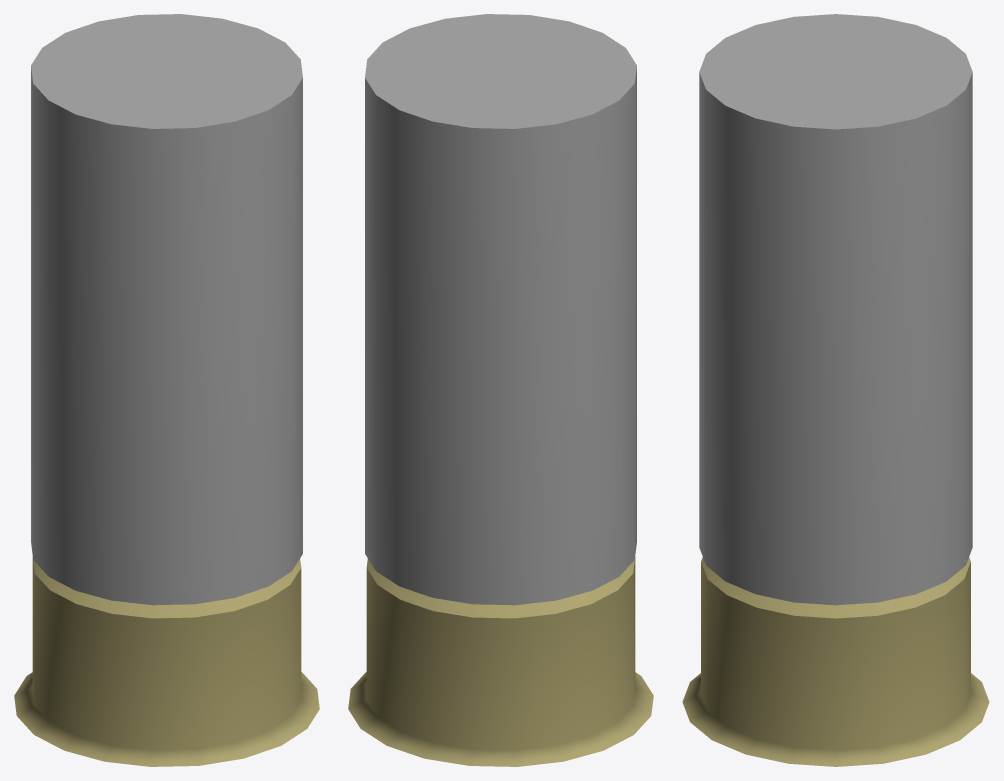
Rendered from chartouche a blanc.fbx.
3 renders of one model, left to right at view 1: azimuth 30°, elevation 25°; view 2: azimuth 150°, elevation 25°; view 3: azimuth 270°, elevation 25°, orthographic.
Visible parts, largest first — view 1: pasted__pCylinder2; view 2: pasted__pCylinder2; view 3: pasted__pCylinder2.
Part boxes in pixels (box(x1,y1,x2,y2)): pasted__pCylinder2: box(14, 14, 319, 766); pasted__pCylinder2: box(348, 14, 653, 766); pasted__pCylinder2: box(682, 14, 989, 766).
Bounding box in the file's own units: 2.25 × 5.09 × 2.25.
